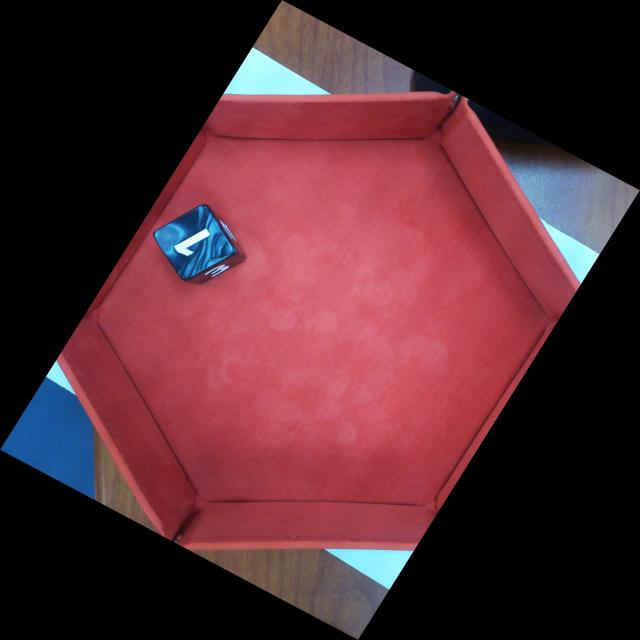dice: (153, 204, 237, 281)
